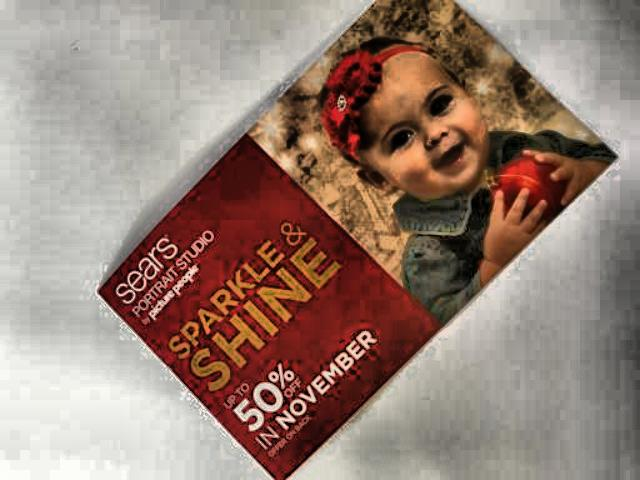Paper: (69, 0, 623, 480)
